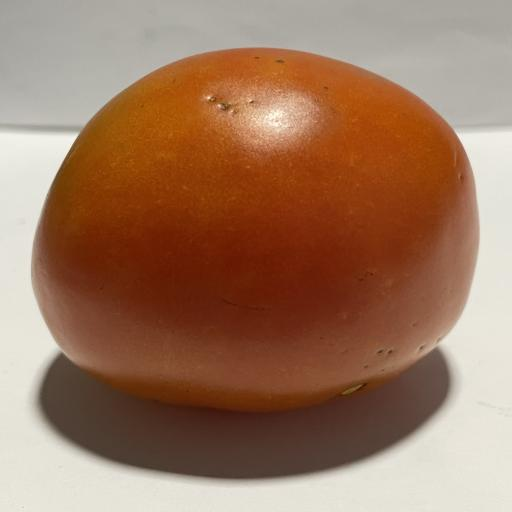ripe: (32, 48, 478, 411)
